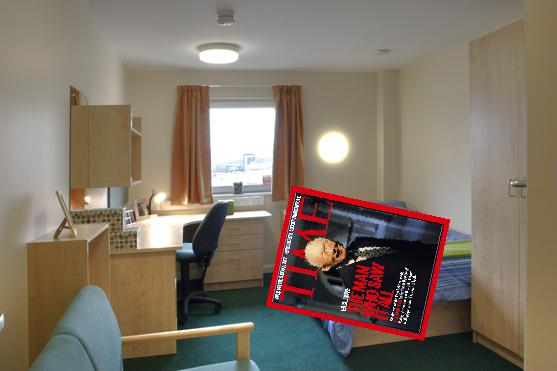times: (262, 185, 451, 341)
